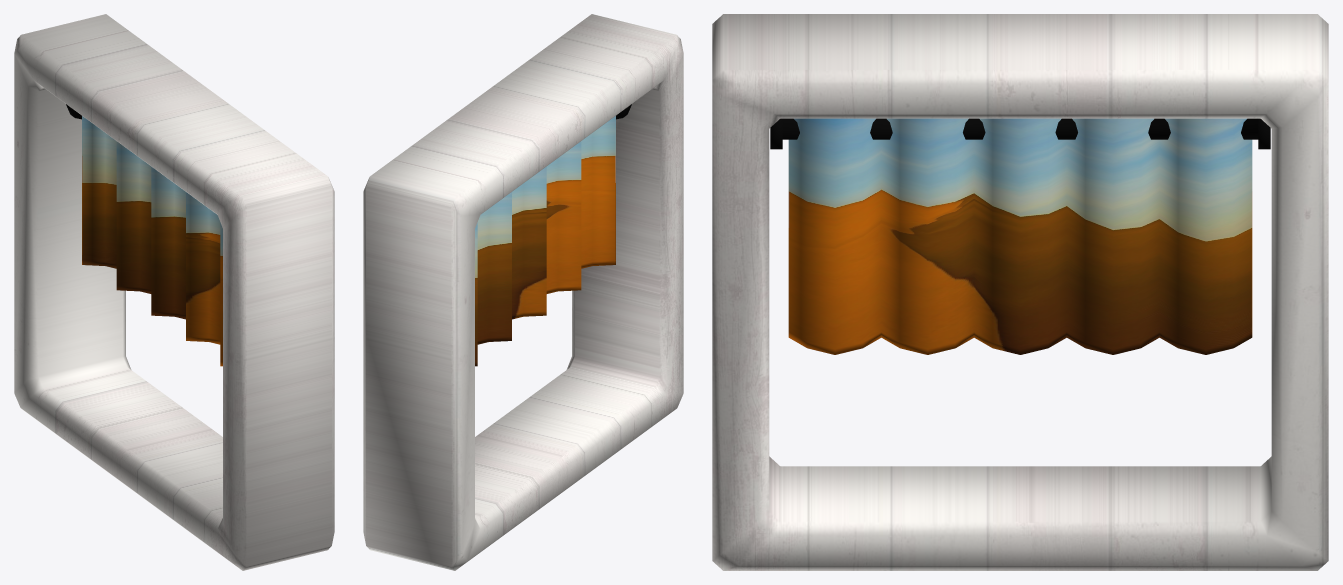
File: ventanal.fbx
3 renders of one model, left to right at view 1: azimuth 30°, elevation 25°; view 2: azimuth 150°, elevation 25°; view 3: azimuth 270°, elevation 25°, orthographic. The views are drawn at different scales.
Parts seen in each view (by area): view 1: VentanaMarco, Cortinas; view 2: VentanaMarco, Cortinas; view 3: VentanaMarco, Cortinas, Cortinas_Tubo.
Boxes of the visible parts, left/top/right/bottom form: VentanaMarco: left=14, top=14, right=334, bottom=570; Cortinas: left=82, top=116, right=222, bottom=366; VentanaMarco: left=363, top=14, right=683, bottom=570; Cortinas: left=475, top=116, right=615, bottom=366; VentanaMarco: left=712, top=14, right=1328, bottom=570; Cortinas: left=788, top=118, right=1252, bottom=354; Cortinas_Tubo: left=770, top=118, right=1270, bottom=149.
Size of the model in its own units: 32.33 by 117 by 130.
